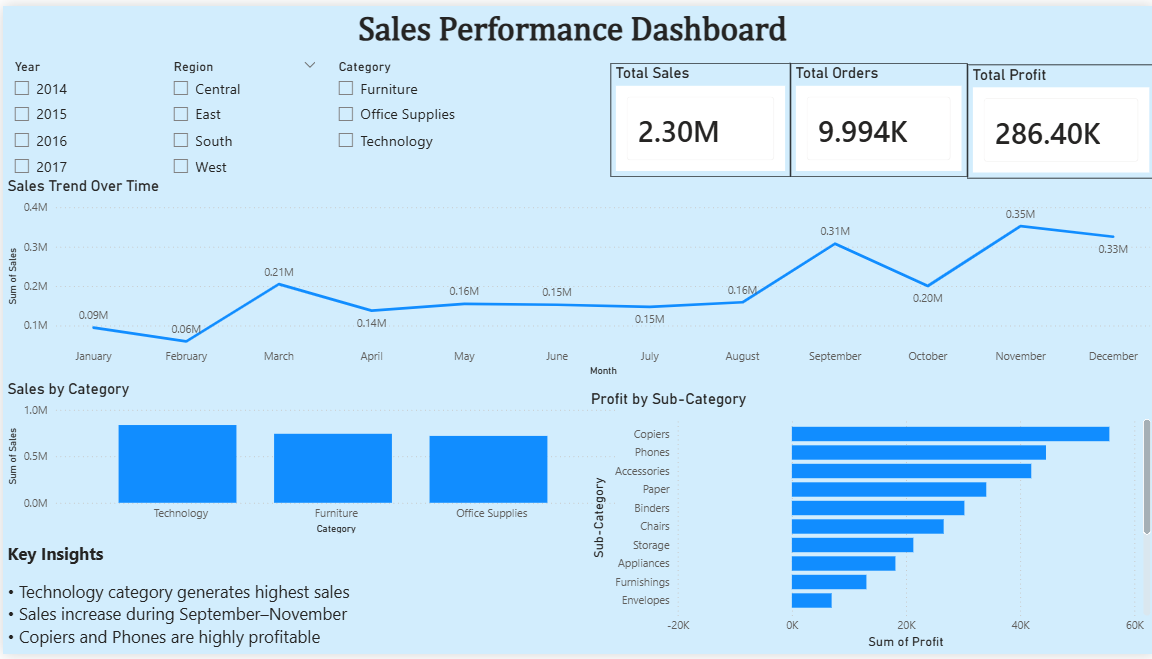

This screenshot's page, from the dashboard's own definition file:
{"tool":"powerbi","page":{"name":"Page 1","canvas":[1280,720],"ordinal":0},"visuals":[{"type":"lineChart","title":"Sales Trend Over Time","fields":{"Category":["Sample - Superstore.Order Date.Variation.Date Hierarchy.Month"],"Y":["Sum(Sample - Superstore.Sales)"]},"box":[0,189.3,1279.5,225.6],"z":0},{"type":"cardVisual","title":"Total Sales","fields":{"Data":["Sum(Sample - Superstore.Sales)"]},"box":[675,63.3,200,126.7],"z":1000},{"type":"cardVisual","title":"Total Orders","fields":{"Data":["CountNonNull(Sample - Superstore.Order ID)"]},"box":[875,63.3,196.7,126.7],"z":2000},{"type":"cardVisual","title":"Total Profit","fields":{"Data":["Sum(Sample - Superstore.Profit)"]},"box":[1071.7,65,208.3,126.7],"z":3000},{"type":"slicer","fields":{"Values":["Sample - Superstore.Region"]},"box":[177.2,53,183.2,162],"z":4000},{"type":"slicer","fields":{"Values":["Sample - Superstore.Category"]},"box":[360.4,53,157.5,180.2],"z":5000},{"type":"clusteredColumnChart","title":"Sales by Category","fields":{"Category":["Sample - Superstore.Category"],"Y":["Sum(Sample - Superstore.Sales)"]},"box":[0,414.9,685.9,175.6],"z":6000},{"type":"slicer","fields":{"Values":["Sample - Superstore.Order Date.Variation.Date Hierarchy.Year"]},"box":[0,53,177.2,149.9],"z":7000},{"type":"clusteredBarChart","title":"Profit by Sub-Category","fields":{"Category":["Sample - Superstore.Sub-Category"],"Y":["Sum(Sample - Superstore.Profit)"]},"box":[648.1,427,631.4,292.2],"z":8000},{"type":"textbox","box":[360.9,0,542.2,68.8],"z":9000},{"type":"textbox","box":[0,590.5,640.5,128.7],"z":9001}]}

Visuals, with their boxes in screenshot pixels (x1, y1, x2, y2), scaled from the page's 1280x720 canvas onto the 1152x659 screenshot:
"Sales Trend Over Time" lineChart: 0/173/1151/380
"Total Sales" cardVisual: 608/58/788/174
"Total Orders" cardVisual: 788/58/965/174
"Total Profit" cardVisual: 965/59/1151/175
slicer - Sample - Superstore.Region: 159/49/324/197
slicer - Sample - Superstore.Category: 324/49/466/213
"Sales by Category" clusteredColumnChart: 0/380/617/540
slicer - Sample - Superstore.Order Date.Variation.Date Hierarchy.Year: 0/49/159/186
"Profit by Sub-Category" clusteredBarChart: 583/391/1151/658
textbox: 325/0/813/63
textbox: 0/540/576/658
